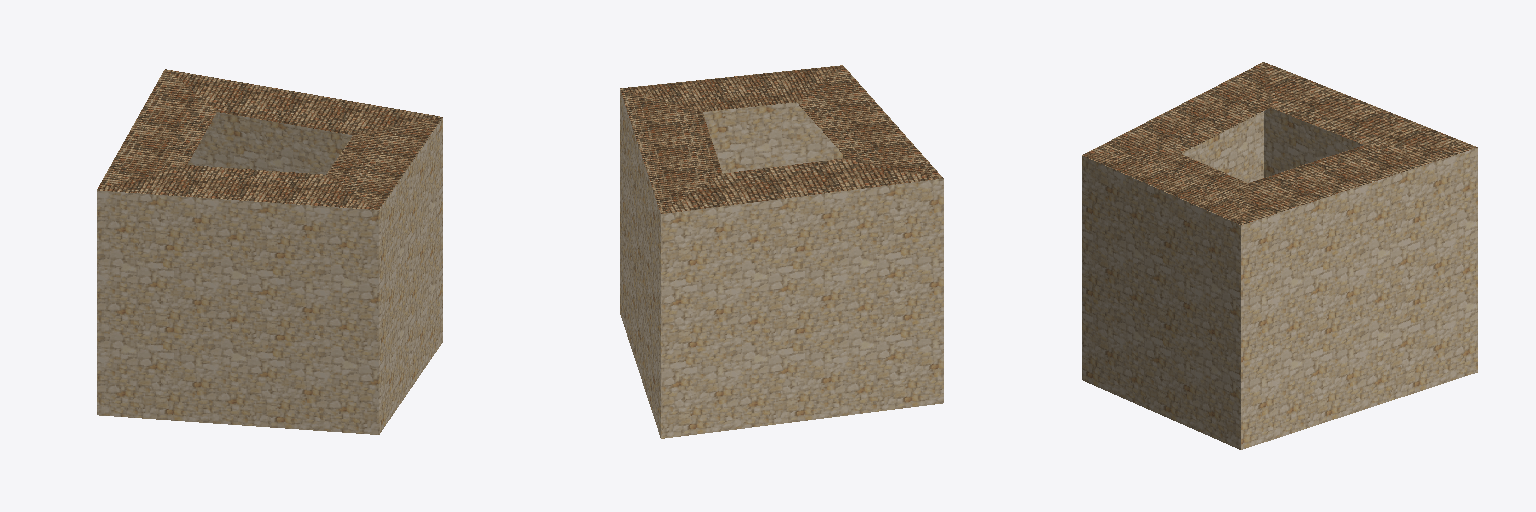
3 renders of one model, left to right at view 1: azimuth 30°, elevation 25°; view 2: azimuth 150°, elevation 25°; view 3: azimuth 270°, elevation 25°, orthographic.
Visible parts, largest first — view 1: DummyOne_DummyOneMesh; view 2: DummyOne_DummyOneMesh; view 3: DummyOne_DummyOneMesh.
Boxes of the visible parts, x1=… form: DummyOne_DummyOneMesh: x1=97, y1=69, x2=442, y2=434; DummyOne_DummyOneMesh: x1=620, y1=65, x2=943, y2=438; DummyOne_DummyOneMesh: x1=1082, y1=62, x2=1477, y2=449.
Bounding box in the file's own units: 57.44 × 36.8 × 58.84.
Materials: 1 (1 with a texture image).